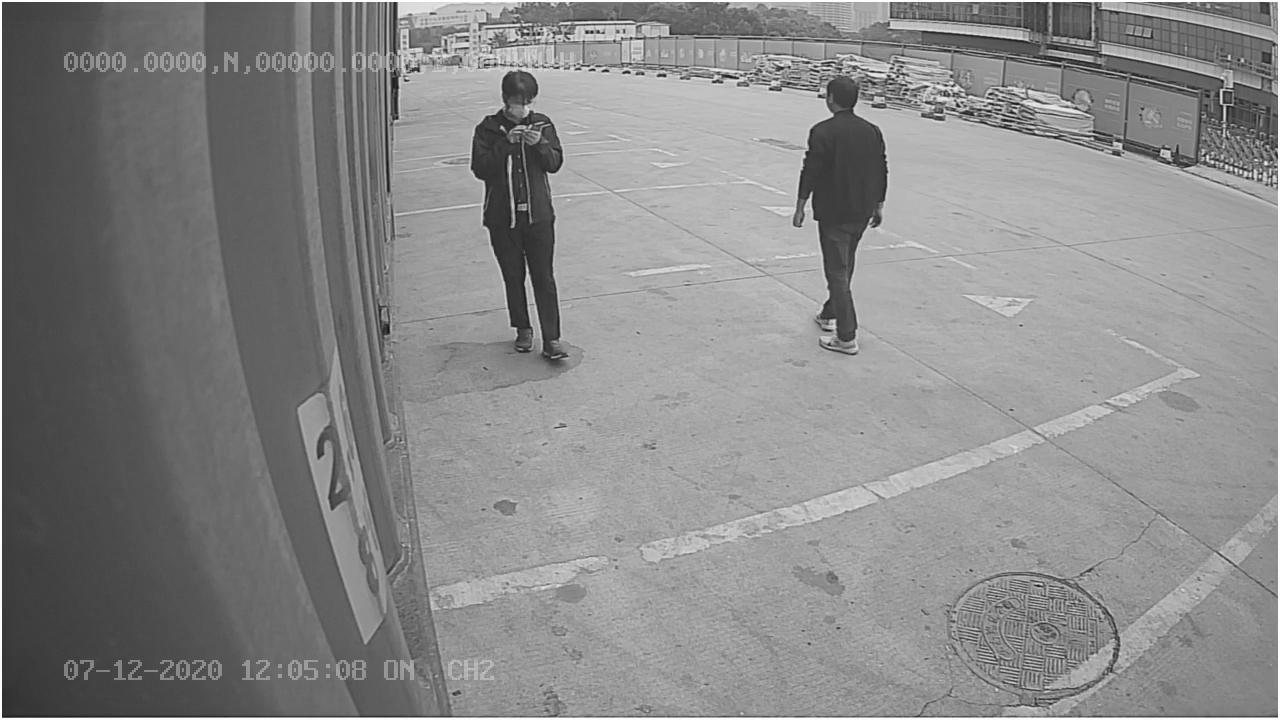person: (469, 73, 580, 359), (789, 73, 898, 360)
